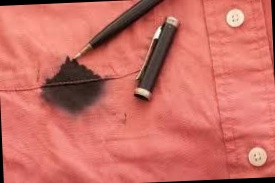ink: (43, 65, 100, 107)
